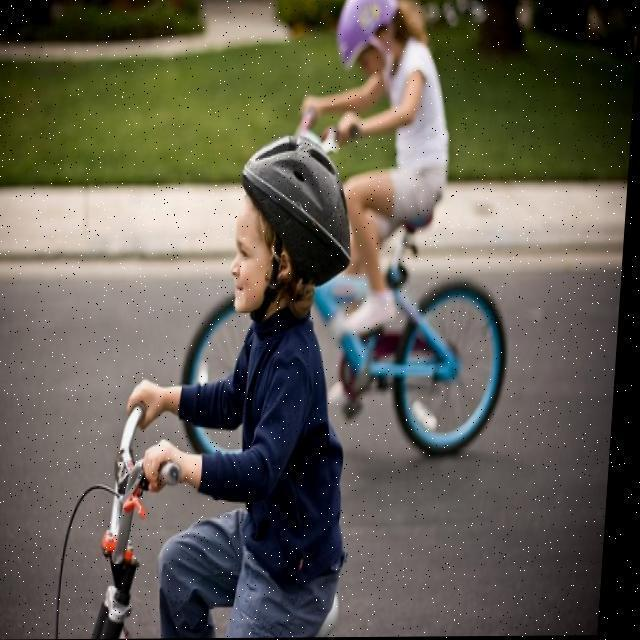Helmet: (223, 115, 366, 322), (322, 2, 430, 74)
